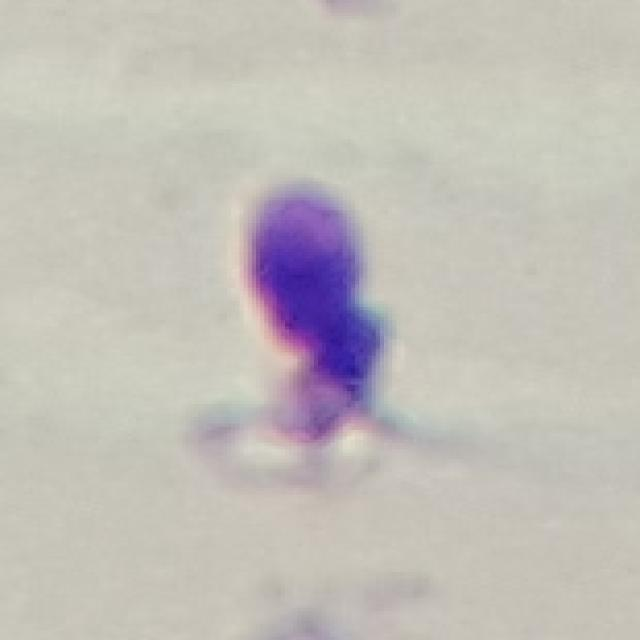abnormal sperm: (193, 181, 427, 498)
